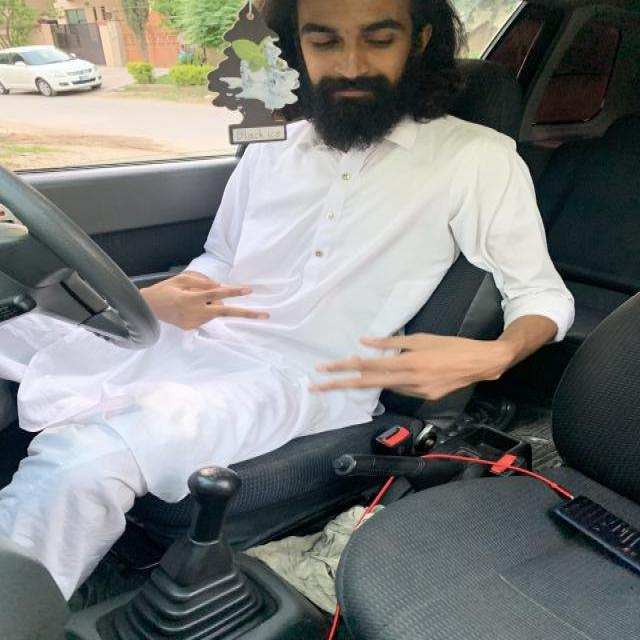no-seatbelt: (212, 0, 506, 483)
